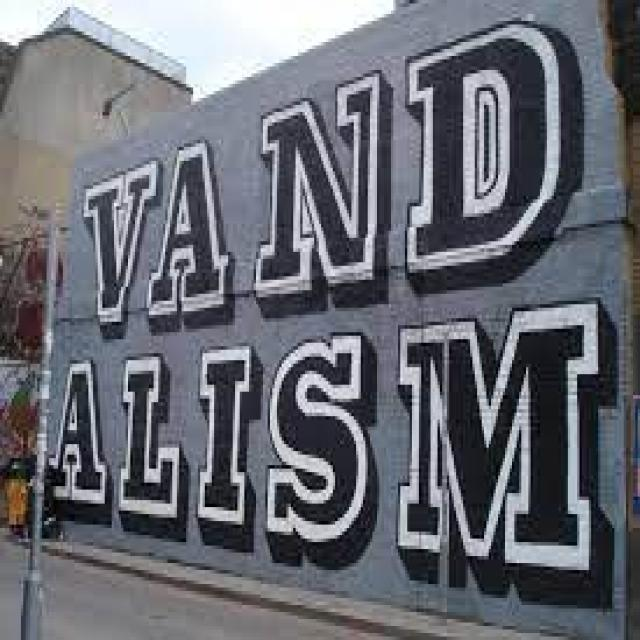-: (51, 21, 620, 616)
